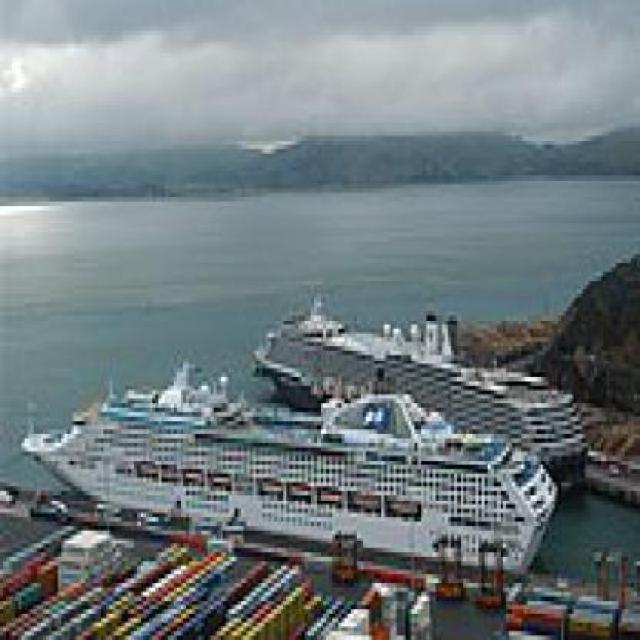cruise: (9, 356, 568, 584)
